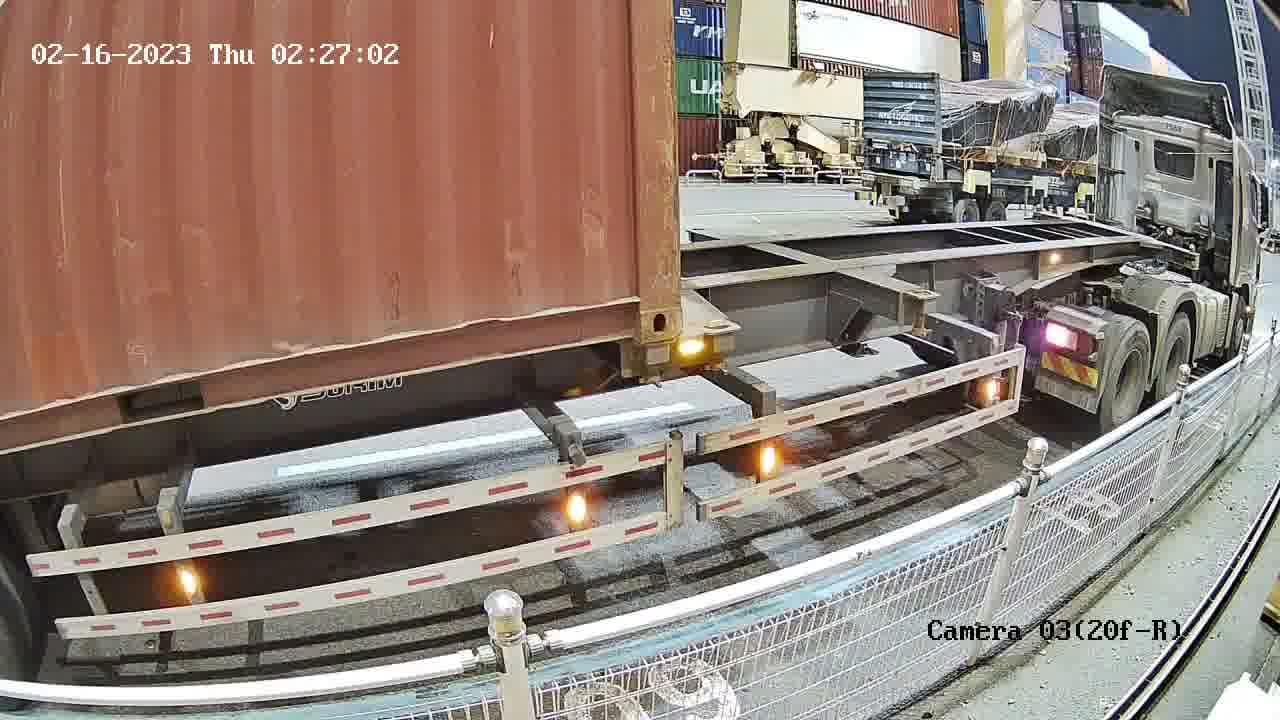Cone: (633, 338, 678, 390)
Hole_R: (588, 267, 683, 343)
Tire: (1103, 326, 1153, 427), (1163, 317, 1193, 383)
